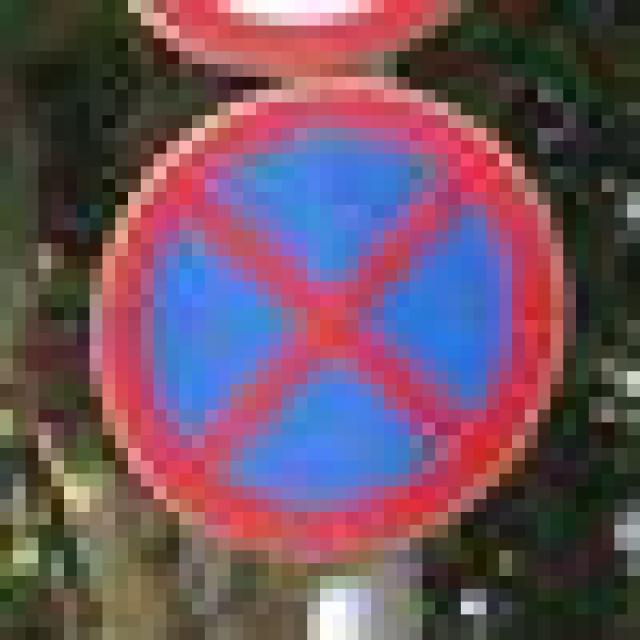NO_STOPPING_OR_STANDING: (77, 64, 550, 550)
